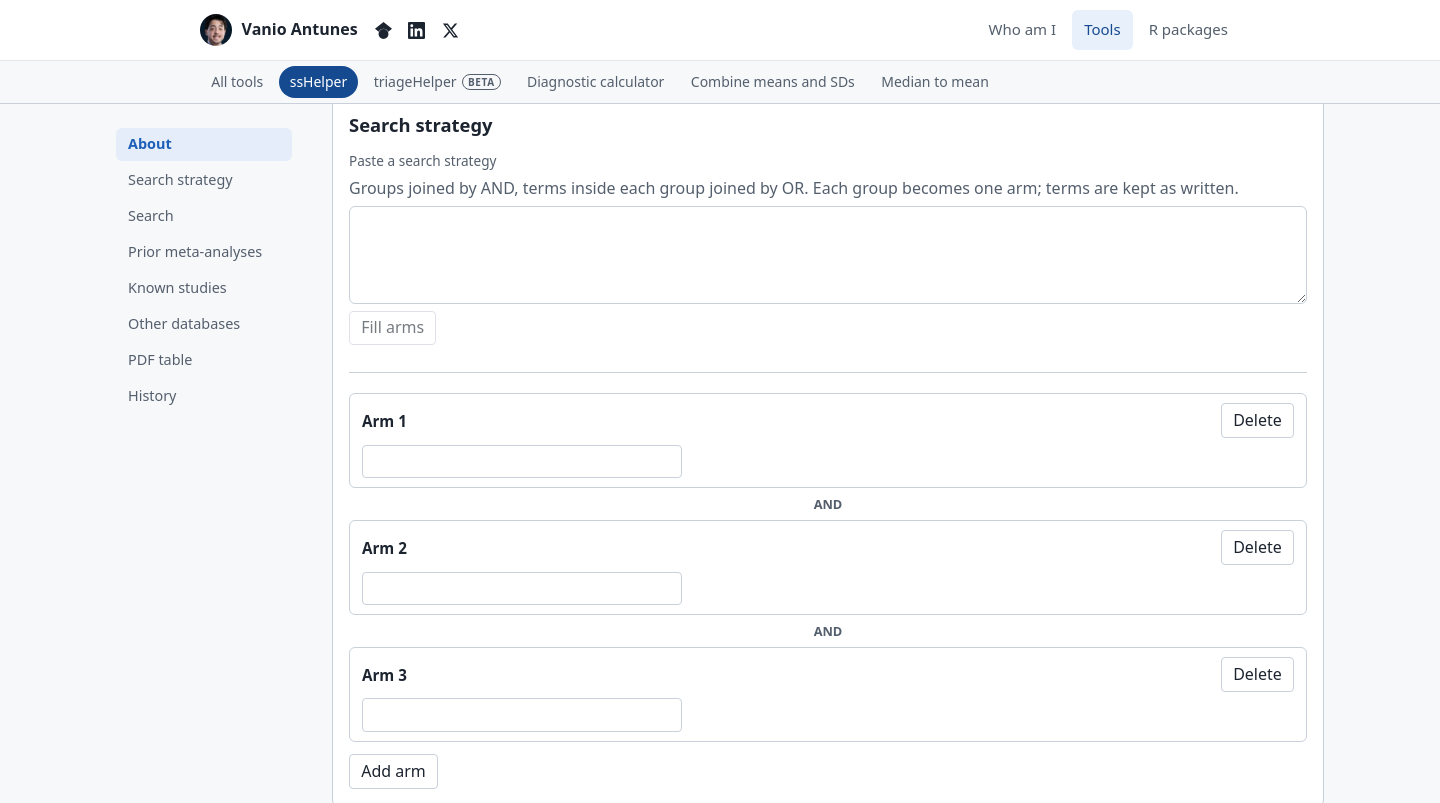
Arms editor (contracts/ui.md) › deleting the middle arm keeps the terms and one AND per gap
(page scrolled)
Step 1. Type "a" into the field named "New term for arm 1" → (522, 461), box [362, 445, 682, 478]
Then press Enter
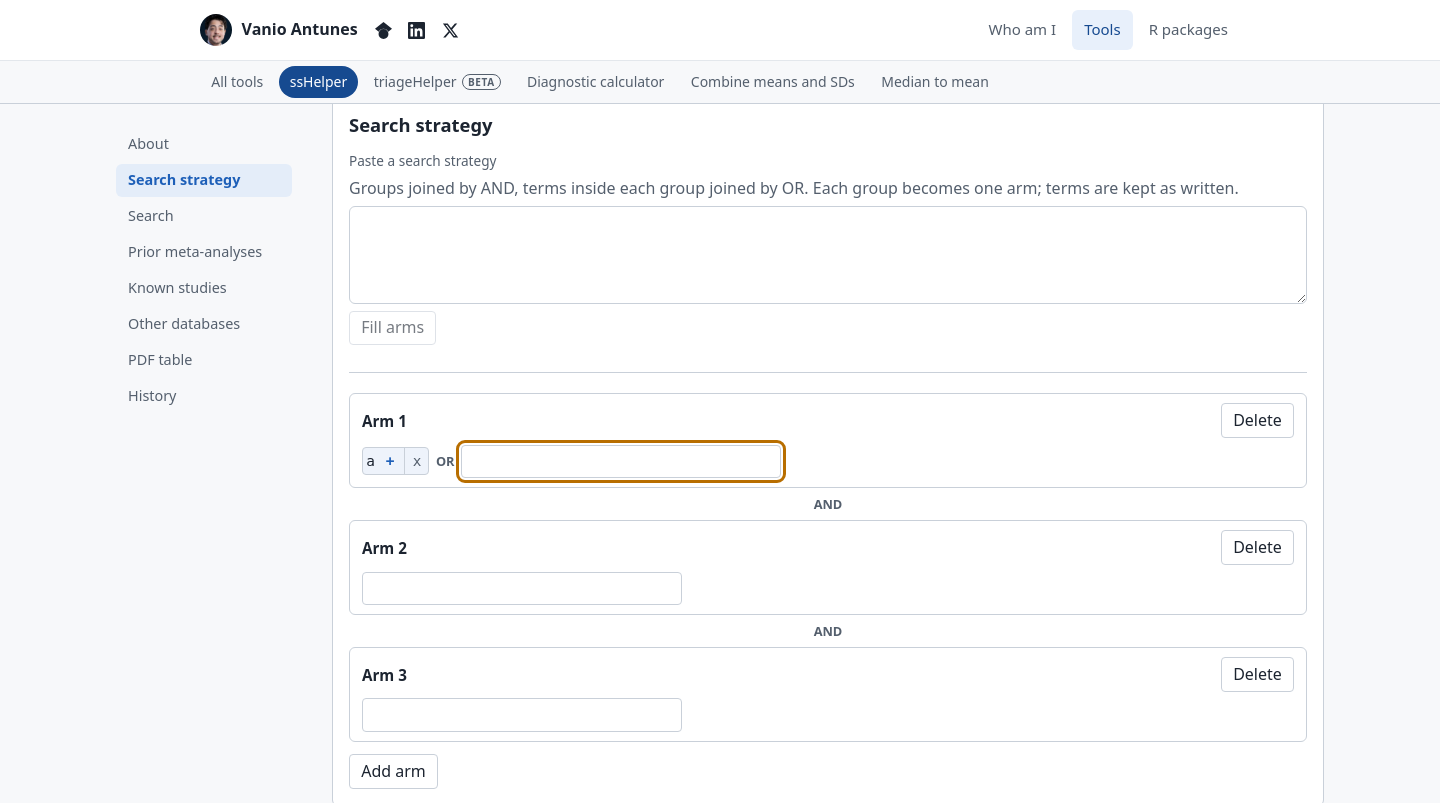
Step 2. Type "b" into the field named "New term for arm 2" → (522, 588), box [362, 572, 682, 605]
Then press Enter
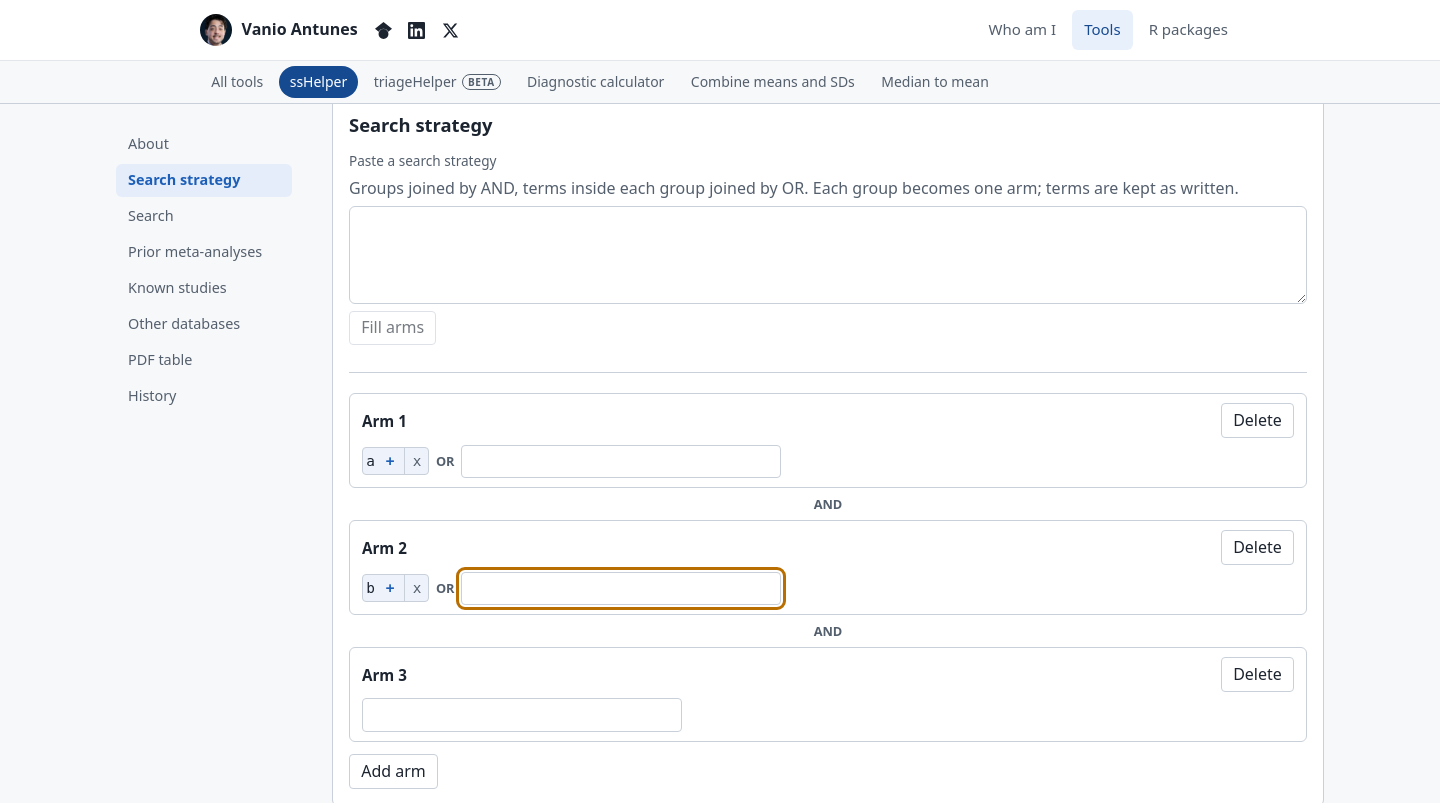
Step 3. Type "c" into the field named "New term for arm 3" → (522, 715), box [362, 698, 682, 732]
Then press Enter
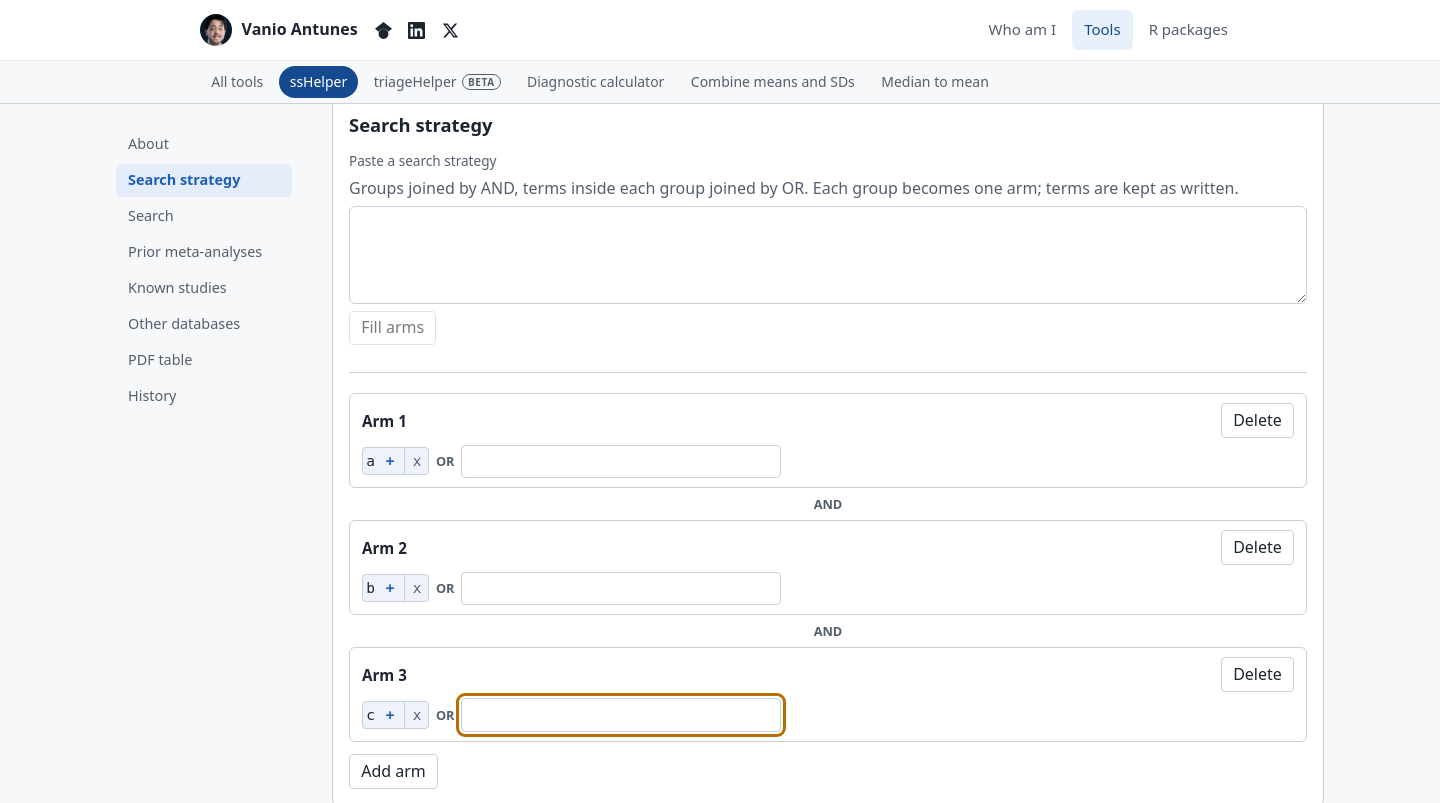
Step 4. Click the button with aria-label "Delete arm 2" → (1258, 548), box [1221, 530, 1294, 565]
(page scrolled)
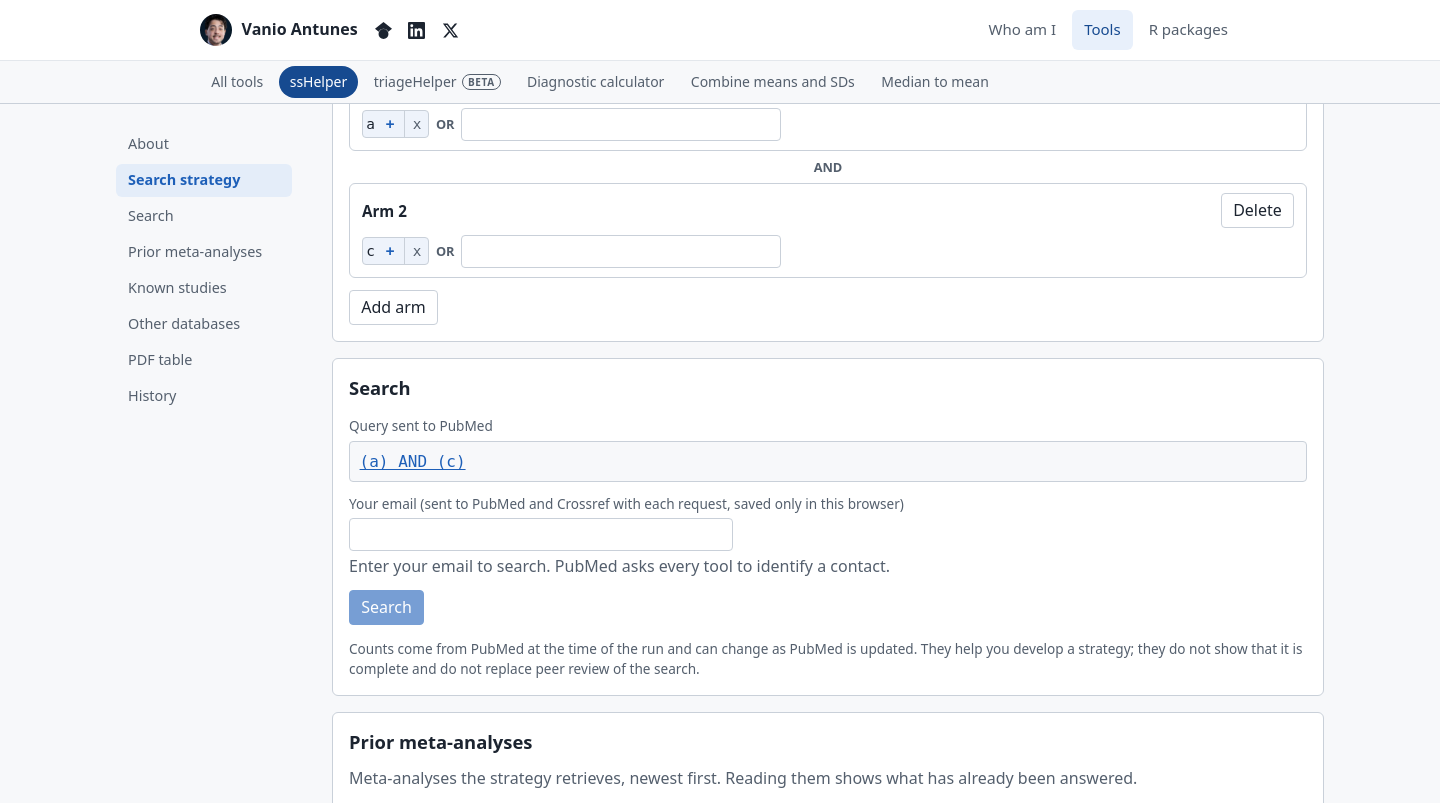
Check: the number of elements "Arm 1 Delete a + x OR" is 2, box [349, 56, 1307, 151]; [349, 183, 1307, 278]
Check: the text "AND" is shown once, box [814, 158, 842, 176]
Check: the element with test id "query-preview" reads "(a) AND (c)", box [360, 452, 466, 471]
